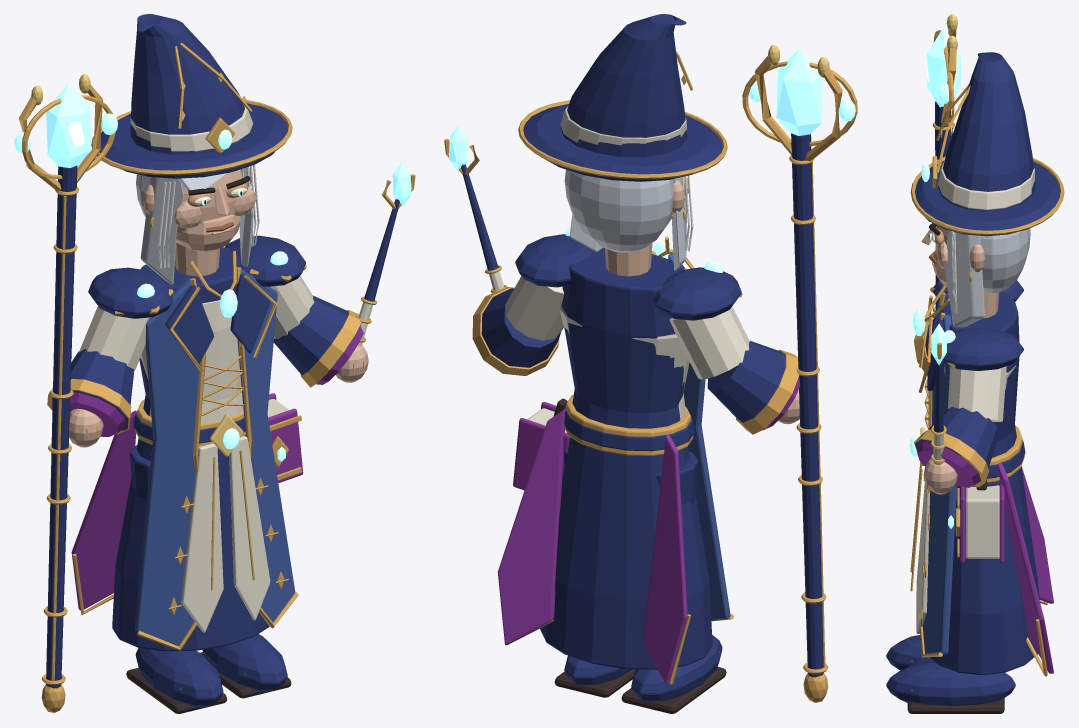
File: mage.glb
3 renders of one model, left to right at view 1: azimuth 30°, elevation 25°; view 2: azimuth 150°, elevation 25°; view 3: azimuth 270°, elevation 25°, orthographic. The views are drawn at different scales.
Parts seen in each view (by area): view 1: Mage — sapphire brocade mesh, Mage — midnight velvet mesh.005, Mage — midnight velvet mesh.002, Mage — moon ivory silk mesh.002, Mage — midnight velvet mesh.006, Mage — violet silk lining mesh, Antique gold mesh.002, Antique gold mesh.006, Mage — midnight velvet mesh.003, Mage — midnight velvet mesh.004, Mage — warm porcelain mesh.002, Mage — midnight velvet mesh (+17 smaller); view 2: Mage — midnight velvet mesh.002, Mage — violet silk lining mesh, Mage — midnight velvet mesh.005, Mage — midnight velvet mesh.006, Mage — silver white hair mesh, Mage — midnight velvet mesh.003, Mage — midnight velvet mesh.004, Antique gold mesh.006, Mage — sapphire brocade mesh, Mage — aether crystal mesh.004, Mage — moon ivory silk mesh.003, Mage — midnight velvet mesh (+13 smaller); view 3: Mage — midnight velvet mesh.002, Mage — midnight velvet mesh.005, Mage — silver white hair mesh, Mage — violet silk lining mesh, Mage — midnight velvet mesh.004, Mage — sapphire brocade mesh, Mage — midnight velvet mesh.001, Mage — moon ivory silk mesh.002, Antique gold mesh.002, Mage — moon ivory silk mesh.004, Antique gold mesh.005, Mage — moon ivory silk mesh.005 (+15 smaller).
Part boxes in pixels (x1,y1,x2,y2): Mage — sapphire brocade mesh: [134, 266, 295, 645]; Mage — midnight velvet mesh.005: [99, 14, 287, 178]; Mage — midnight velvet mesh.002: [112, 247, 270, 651]; Mage — moon ivory silk mesh.002: [140, 299, 289, 632]; Mage — midnight velvet mesh.006: [46, 165, 77, 688]; Mage — violet silk lining mesh: [71, 393, 303, 610]; Antique gold mesh.002: [72, 267, 301, 650]; Antique gold mesh.006: [19, 85, 115, 712]; Mage — midnight velvet mesh.003: [71, 267, 172, 430]; Mage — midnight velvet mesh.004: [225, 235, 361, 374]; Mage — warm porcelain mesh.002: [143, 167, 256, 276]; Mage — midnight velvet mesh: [130, 445, 223, 707]; Mage — midnight velvet mesh.002: [540, 247, 712, 669]; Mage — violet silk lining mesh: [497, 402, 687, 684]; Mage — midnight velvet mesh.005: [523, 14, 722, 181]; Mage — midnight velvet mesh.006: [791, 133, 823, 677]; Mage — silver white hair mesh: [564, 169, 686, 270]; Mage — midnight velvet mesh.003: [653, 267, 785, 422]; Mage — midnight velvet mesh.004: [481, 234, 593, 367]; Antique gold mesh.006: [742, 56, 857, 702]; Mage — sapphire brocade mesh: [668, 253, 730, 620]; Mage — aether crystal mesh.004: [748, 48, 855, 135]; Mage — moon ivory silk mesh.003: [669, 306, 749, 379]; Mage — midnight velvet mesh: [631, 451, 722, 702]; Mage — midnight velvet mesh.002: [920, 291, 1039, 675]; Mage — midnight velvet mesh.005: [915, 52, 1060, 236]; Mage — silver white hair mesh: [945, 228, 1030, 327]; Mage — violet silk lining mesh: [960, 463, 1053, 673]; Mage — midnight velvet mesh.004: [915, 328, 1023, 468]; Mage — sapphire brocade mesh: [922, 293, 957, 654]; Mage — midnight velvet mesh.001: [886, 496, 1015, 706]; Mage — moon ivory silk mesh.002: [916, 365, 1015, 633]; Antique gold mesh.002: [910, 292, 1047, 676]; Mage — moon ivory silk mesh.004: [947, 366, 1006, 421]; Antique gold mesh.005: [910, 84, 1064, 321]; Mage — moon ivory silk mesh.005: [938, 160, 1034, 209].
Size of the model in its own units: 1.67 by 2.66 by 0.6969.
